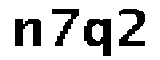2: (116, 4, 147, 50)
7: (52, 3, 80, 51)
n: (13, 17, 44, 51)
q: (80, 13, 117, 60)
